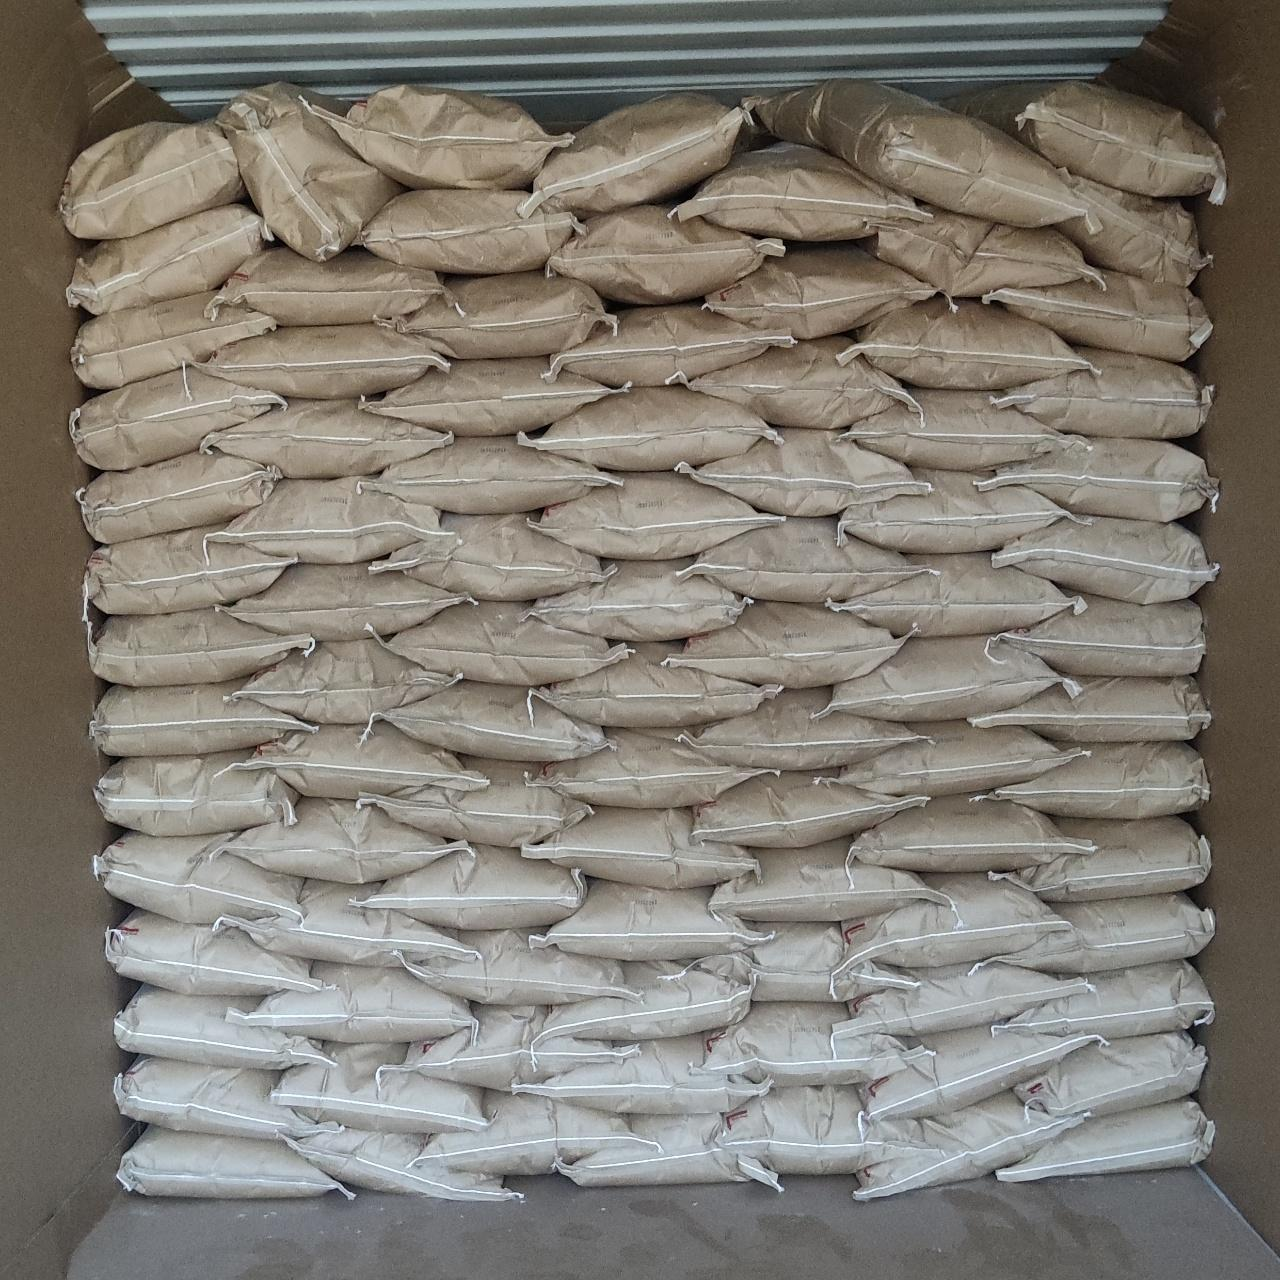sack: (756, 80, 1076, 222), (938, 82, 1224, 198), (212, 84, 400, 258), (522, 94, 768, 215), (316, 86, 572, 188), (672, 144, 926, 238), (856, 1094, 1084, 1198), (549, 206, 782, 302), (674, 336, 914, 428), (215, 880, 468, 966), (72, 368, 282, 470), (68, 204, 270, 309), (704, 244, 932, 336), (382, 1005, 634, 1088), (518, 388, 774, 470), (535, 472, 779, 558), (864, 1026, 1090, 1118), (60, 124, 241, 238), (826, 554, 1076, 636), (862, 210, 1102, 294), (362, 358, 628, 434), (856, 298, 1080, 388), (678, 430, 924, 512), (360, 758, 590, 846), (838, 388, 1082, 470), (546, 304, 794, 384), (994, 348, 1214, 438), (535, 644, 776, 726), (222, 798, 470, 878), (388, 602, 628, 685), (847, 874, 1062, 966), (826, 636, 1062, 720), (377, 272, 610, 356), (686, 518, 918, 602), (72, 292, 274, 388), (983, 272, 1210, 358), (835, 962, 1088, 1039), (672, 602, 903, 686), (978, 438, 1218, 518), (274, 1042, 486, 1132), (374, 515, 604, 598), (712, 838, 948, 918), (978, 894, 1214, 974), (821, 722, 1084, 794), (206, 400, 452, 476), (196, 324, 445, 399), (680, 688, 920, 765), (842, 470, 1074, 550), (79, 450, 280, 542), (522, 808, 756, 886), (114, 1056, 332, 1141), (114, 986, 332, 1070), (94, 832, 302, 920), (420, 1092, 642, 1175), (518, 1036, 765, 1110), (530, 730, 768, 806), (212, 478, 440, 558), (994, 516, 1214, 598), (368, 438, 620, 510), (990, 818, 1210, 900), (714, 1085, 915, 1175), (358, 190, 583, 270), (86, 527, 292, 614), (105, 912, 324, 994), (241, 640, 458, 722), (974, 742, 1206, 818), (850, 796, 1088, 870), (998, 1099, 1214, 1180), (682, 924, 912, 1000), (216, 250, 452, 324), (377, 682, 606, 758), (226, 564, 462, 638), (538, 880, 762, 958), (366, 846, 583, 926), (244, 962, 470, 1039), (694, 772, 926, 846), (536, 962, 750, 1042), (404, 930, 632, 1005), (238, 726, 478, 796), (527, 560, 745, 638), (91, 680, 312, 756), (91, 608, 312, 685), (558, 1114, 779, 1189), (118, 1126, 350, 1198), (704, 1002, 906, 1084), (1062, 173, 1208, 286), (288, 1130, 522, 1200), (990, 595, 1204, 672), (994, 962, 1212, 1036), (96, 753, 297, 832), (1017, 1032, 1206, 1112), (972, 678, 1210, 740)
